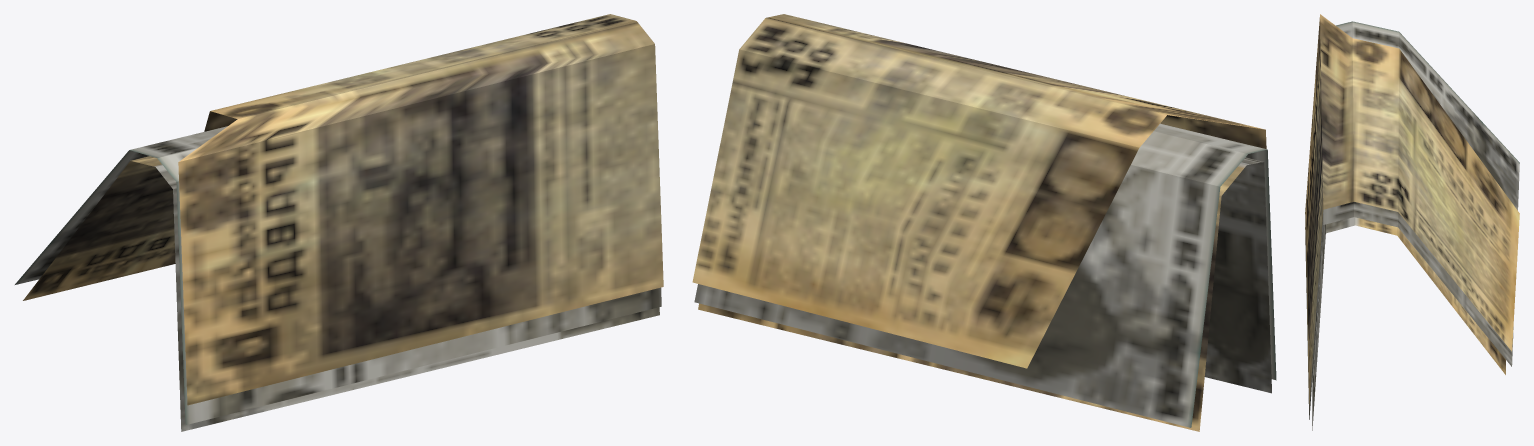
File: NewsPapers2.fbx
3 renders of one model, left to right at view 1: azimuth 30°, elevation 25°; view 2: azimuth 150°, elevation 25°; view 3: azimuth 270°, elevation 25°, orthographic. The views are drawn at different scales.
Parts seen in each view (by area): view 1: NewsPapers2; view 2: NewsPapers2; view 3: NewsPapers2.
Part boxes in pixels (x1,y1,x2,y2): NewsPapers2: (15, 14, 663, 431); NewsPapers2: (692, 14, 1276, 431); NewsPapers2: (1305, 14, 1519, 430).
Bounding box in the file's own units: 45.9 × 23.08 × 19.45.
